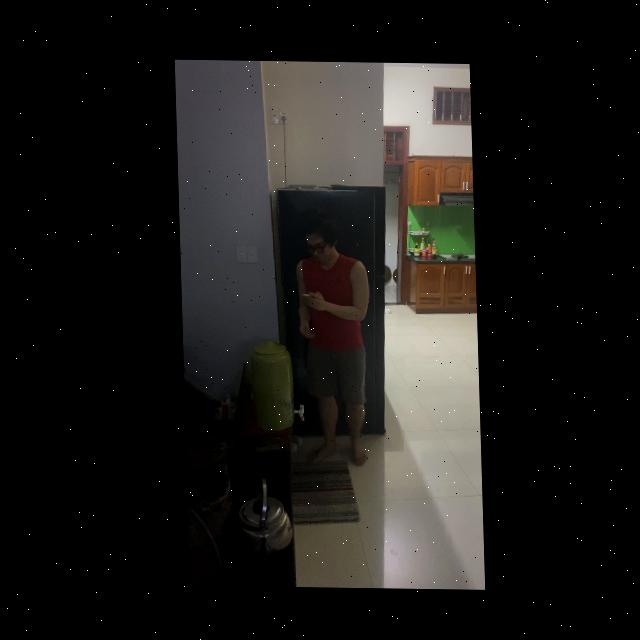cigarette: (300, 293, 308, 296)
